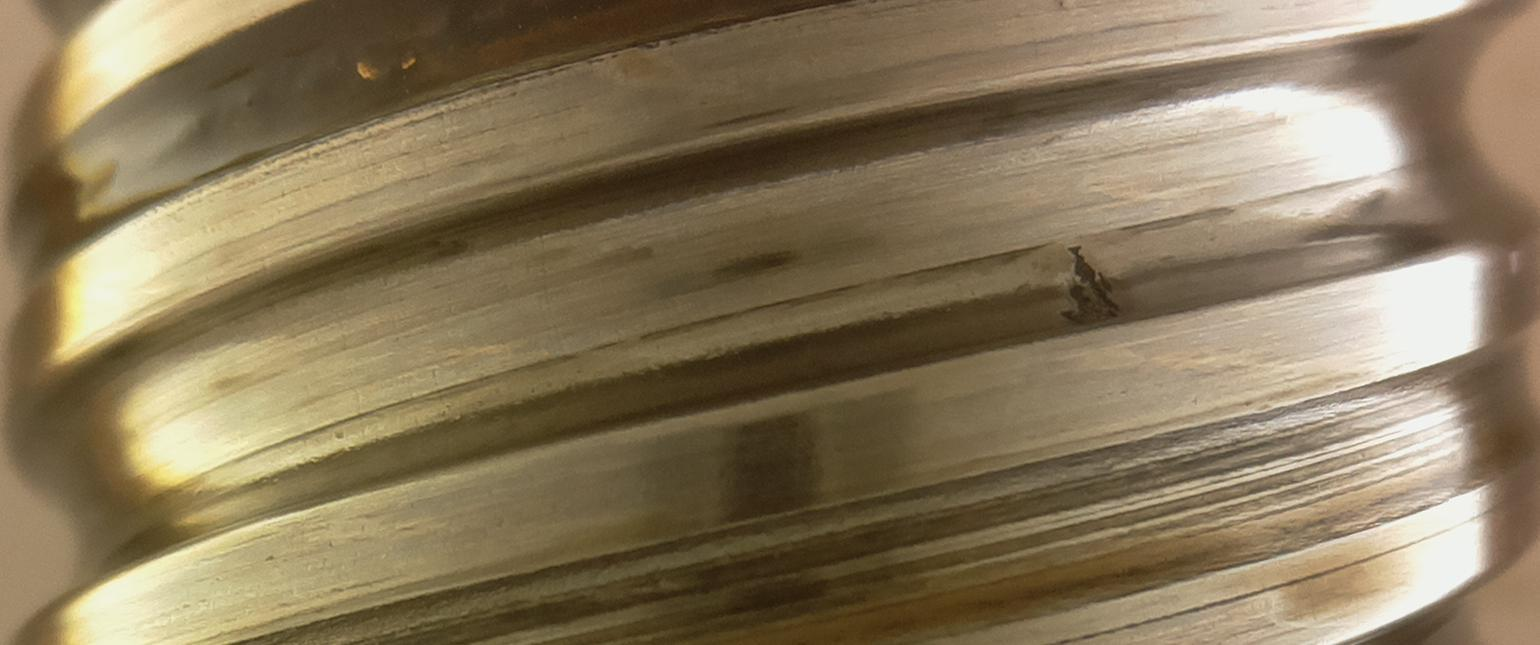pitting: (1061, 245, 1119, 323)
